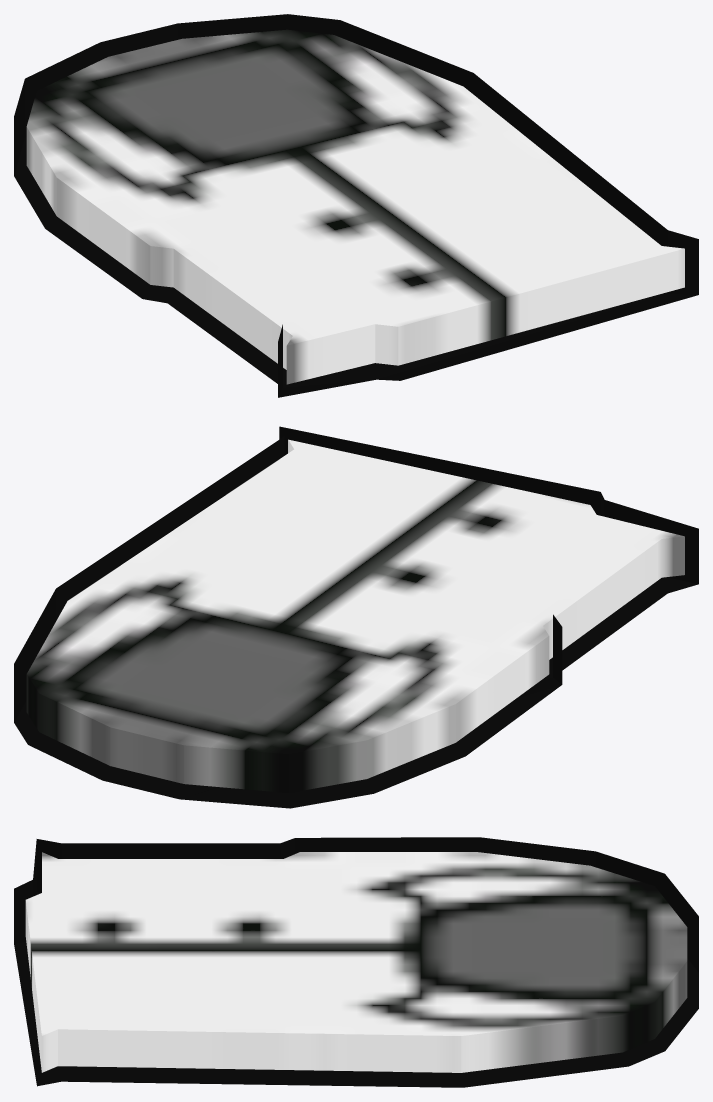
Rendered from Item_Apparel_KidParka_Things_Pawn_Humanlike_Apparel_KidParka_KidParka.glb.
3 renders of one model, top to bottom at view 1: azimuth 30°, elevation 25°; view 2: azimuth 150°, elevation 25°; view 3: azimuth 270°, elevation 25°, orthographic. The views are drawn at different scales.
Visible parts, largest first — view 1: Body, Outline; view 2: Body, Outline; view 3: Body, Outline.
Part boxes in pixels (<box>): Body: <box>26,29,684,384</box>; Outline: <box>14,14,698,397</box>; Body: <box>26,439,684,792</box>; Outline: <box>14,426,698,808</box>; Body: <box>25,852,687,1072</box>; Outline: <box>14,837,698,1087</box>.
Size of the model in its own units: 0.4462 by 0.0647 by 0.6634.
Materials: 2 (1 with a texture image).
